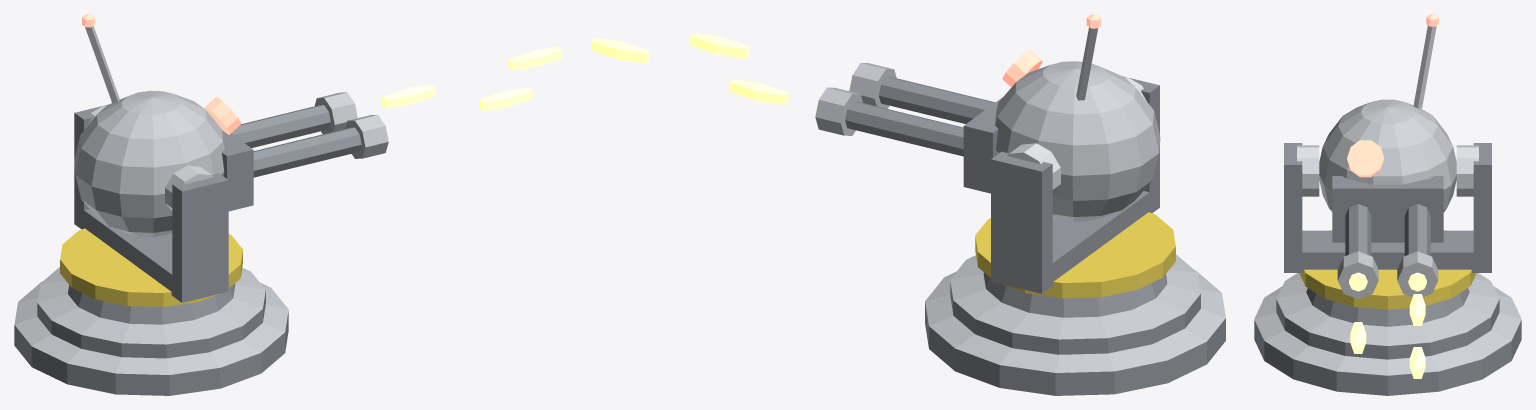
File: item_turret.glb
The picture shows the model from 3 angles, left to right: view 1: azimuth 30°, elevation 25°; view 2: azimuth 150°, elevation 25°; view 3: azimuth 270°, elevation 25°; orthographic projection. The views are drawn at different scales.
Visible parts, largest first — view 1: item_turret; view 2: item_turret; view 3: item_turret.
Part boxes in pixels (x1,y1,x2,y2): item_turret: (14, 14, 562, 395); item_turret: (591, 14, 1225, 395); item_turret: (1254, 14, 1521, 395).
Size of the model in its own units: 1.64 by 0.91 by 0.72.
